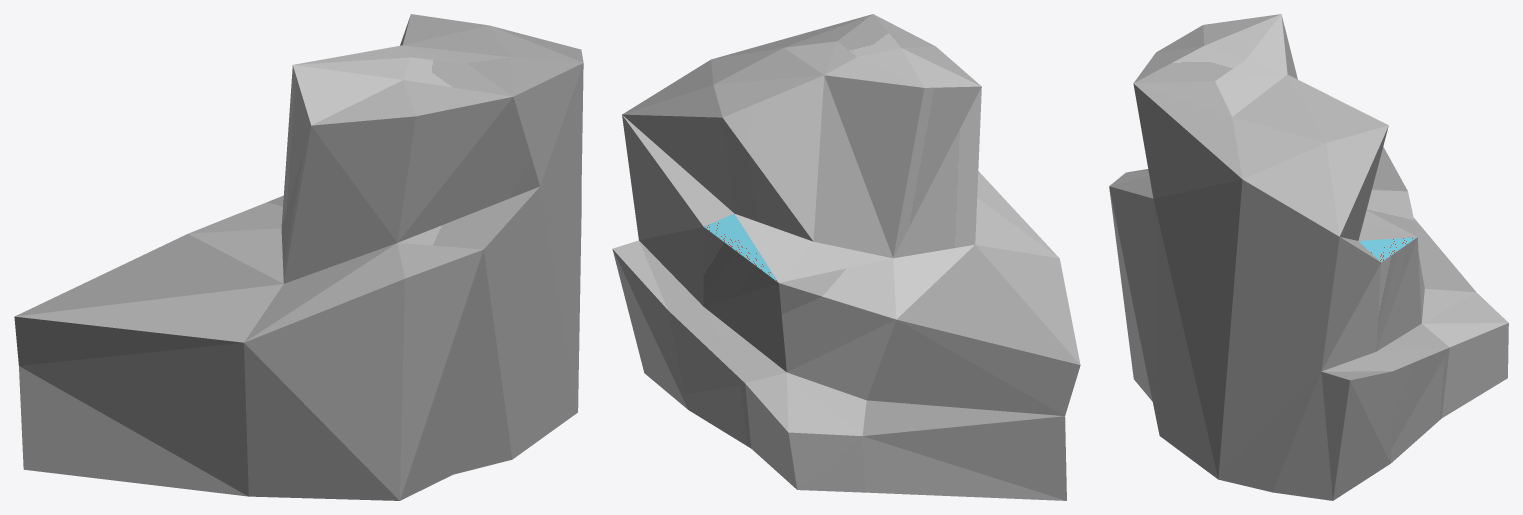
The model's file is EA01_Env_Clif_01b.glb.
3 views of the same model, side by side, from view 1: azimuth 30°, elevation 25°; view 2: azimuth 150°, elevation 25°; view 3: azimuth 270°, elevation 25° (orthographic). The views are drawn at different scales.
Parts seen in each view (by area): view 1: EA01_Env_Clif_01b; view 2: EA01_Env_Clif_01b; view 3: EA01_Env_Clif_01b.
Boxes of the visible parts, x1=… form: EA01_Env_Clif_01b: x1=14, y1=14, x2=583, y2=500; EA01_Env_Clif_01b: x1=612, y1=14, x2=1080, y2=500; EA01_Env_Clif_01b: x1=1109, y1=14, x2=1508, y2=500.
Bounding box in the file's own units: 18.29 × 12.25 × 12.39.
1 material, 1 textured.
